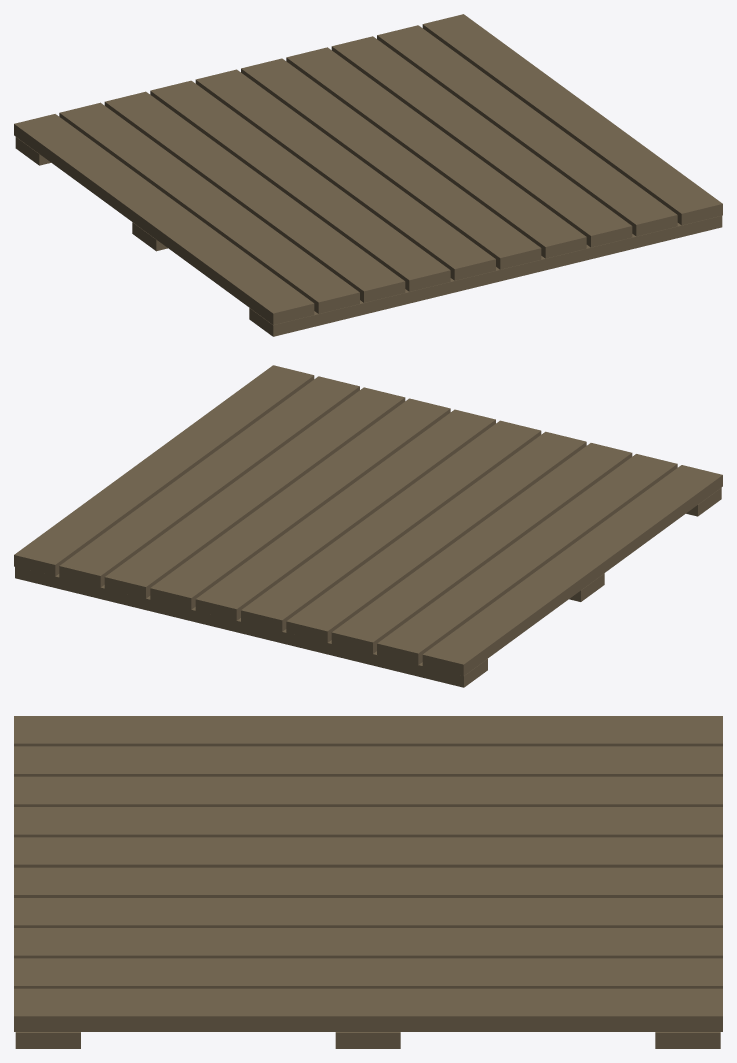
The model's file is Pallet.fbx.
3 views of the same model, one above another, from view 1: azimuth 30°, elevation 25°; view 2: azimuth 150°, elevation 25°; view 3: azimuth 270°, elevation 25° (orthographic). The views are drawn at different scales.
Visible parts, largest first — view 1: Pallet; view 2: Pallet; view 3: Pallet.
Boxes of the visible parts, x1,y1,x2,y2 form: Pallet: (14, 14, 722, 336); Pallet: (14, 365, 722, 687); Pallet: (14, 716, 722, 1048).
Bounding box in the file's own units: 200 × 10.2 × 200.
